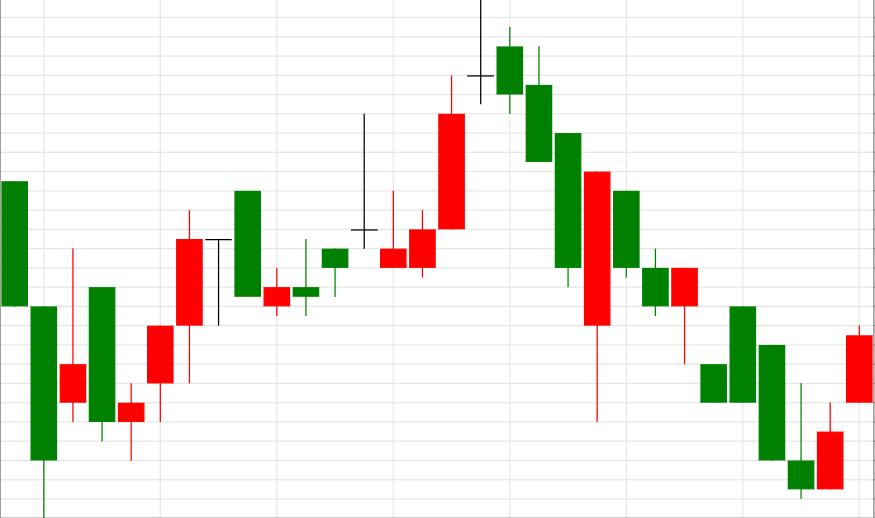evening_star_fall: (263, 1, 523, 317)
